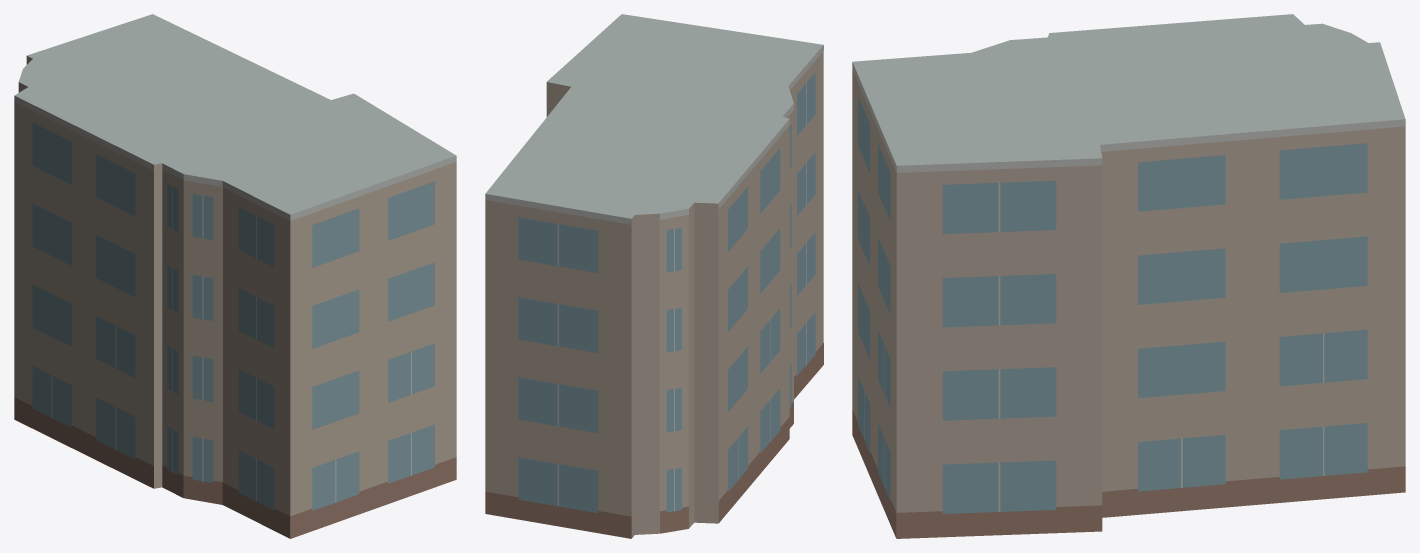
Rendered from survey-upis-32923322.glb.
3 views of the same model, side by side, from view 1: azimuth 30°, elevation 25°; view 2: azimuth 150°, elevation 25°; view 3: azimuth 270°, elevation 25° (orthographic). The views are drawn at different scales.
Visible parts, largest first — view 1: survey-upis-32923322.tmp; view 2: survey-upis-32923322.tmp; view 3: survey-upis-32923322.tmp.
Boxes of the visible parts, bbox=[...] form: survey-upis-32923322.tmp: bbox=[14, 14, 456, 538]; survey-upis-32923322.tmp: bbox=[485, 14, 823, 538]; survey-upis-32923322.tmp: bbox=[852, 14, 1405, 538].
Bounding box in the file's own units: 11.18 × 12.8 × 17.21.
